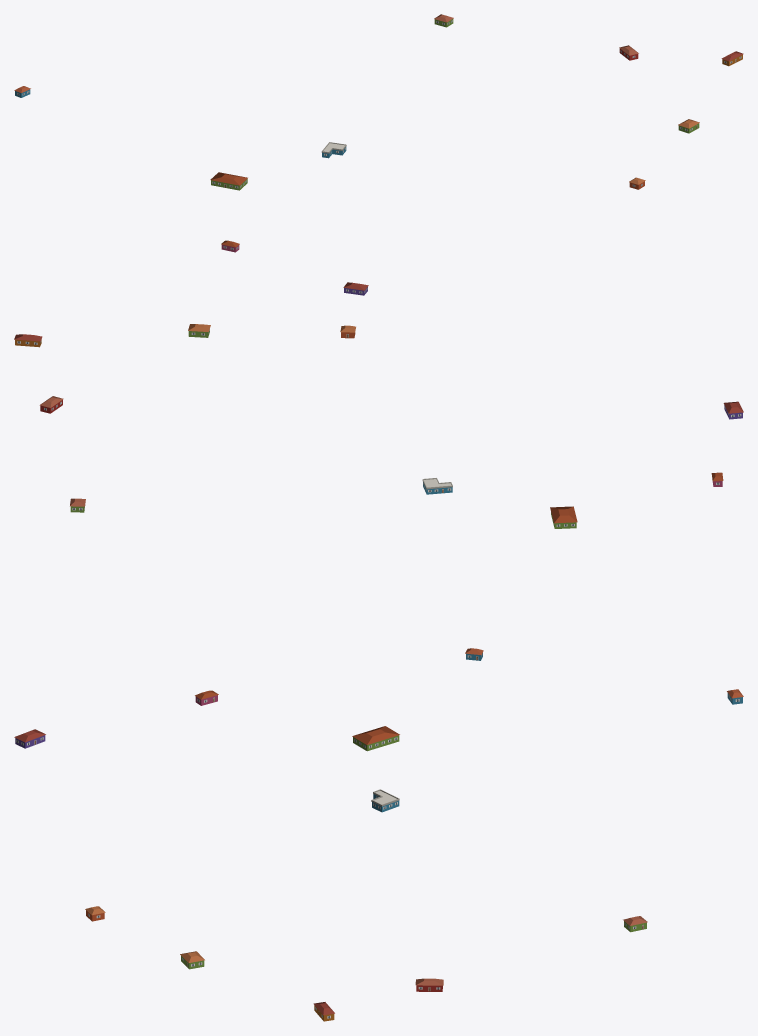
File: msb_sannicolas_19_21.glb
3 renders of one model, top to bottom at view 1: azimuth 30°, elevation 25°; view 2: azimuth 150°, elevation 25°; view 3: azimuth 270°, elevation 25°, orthographic. The views are drawn at different scales.
Parts seen in each view (by area): view 1: msb_sannicolas_19_21_lod0; view 2: msb_sannicolas_19_21_lod0; view 3: msb_sannicolas_19_21_lod0.
Boxes of the visible parts, x1,y1,x2,y2 form: msb_sannicolas_19_21_lod0: (14, 14, 743, 295); msb_sannicolas_19_21_lod0: (14, 324, 743, 660); msb_sannicolas_19_21_lod0: (14, 689, 743, 1021).
Size of what is drawn, in the model's own units: 390 by 21.31 by 344.
Materials: 3 (1 with a texture image).
